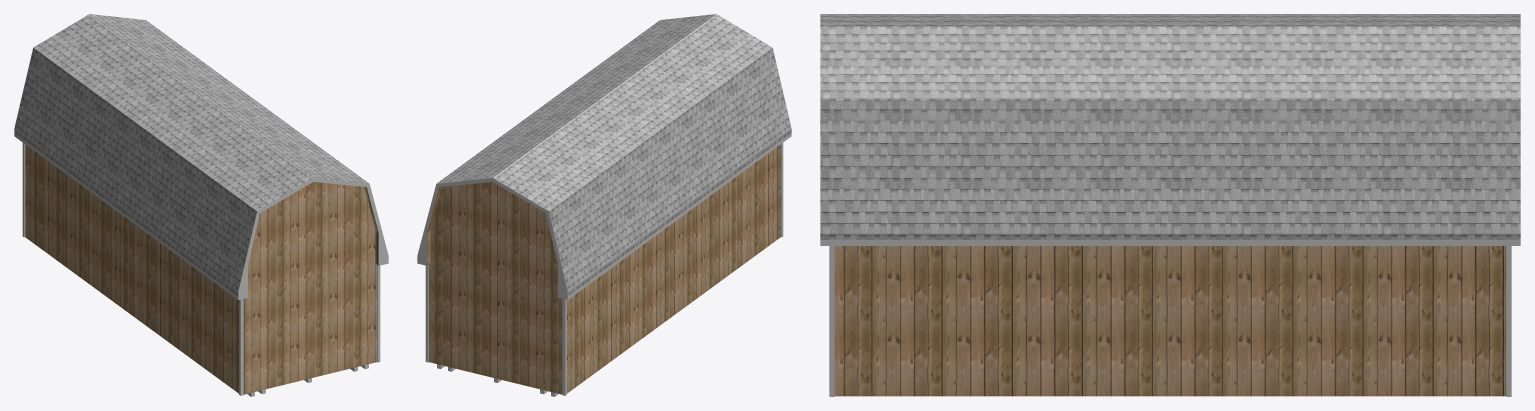
Rendered from Two Story Gambrel_12x32.obj.
3 views of the same model, side by side, from view 1: azimuth 30°, elevation 25°; view 2: azimuth 150°, elevation 25°; view 3: azimuth 270°, elevation 25° (orthographic). The views are drawn at different scales.
Visible parts, largest first — view 1: Roof, Shed, Sides, Trim; view 2: Roof, Shed, Sides, Trim; view 3: Roof, Shed, Sides, Trim.
Part boxes in pixels (x1,y1,x2,y2): Roof: (14, 14, 369, 295); Shed: (25, 144, 378, 394); Sides: (14, 132, 388, 300); Trim: (22, 143, 380, 395); Roof: (436, 14, 791, 295); Shed: (427, 144, 780, 394); Sides: (417, 132, 791, 300); Trim: (425, 143, 783, 395); Roof: (820, 14, 1520, 239); Shed: (834, 246, 1506, 396); Sides: (820, 240, 1520, 245); Trim: (829, 246, 1511, 396).
Size of the model in its own units: 3.9 by 5.14 by 10.06.
